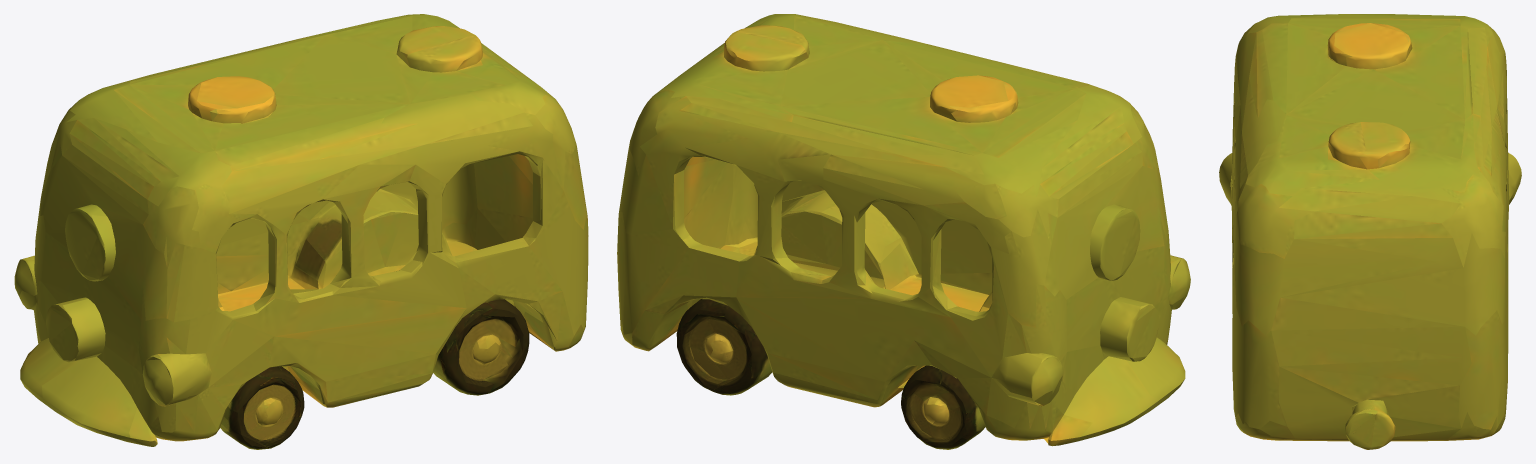
Rendered from gogoCarriage.f4165978.glb.
The picture shows the model from 3 angles, left to right: view 1: azimuth 30°, elevation 25°; view 2: azimuth 150°, elevation 25°; view 3: azimuth 270°, elevation 25°; orthographic projection. The views are drawn at different scales.
Parts seen in each view (by area): view 1: output_unwrapped; view 2: output_unwrapped; view 3: output_unwrapped.
Part boxes in pixels (x1,y1,x2,y2): output_unwrapped: [14, 14, 588, 449]; output_unwrapped: [617, 14, 1190, 449]; output_unwrapped: [1219, 14, 1521, 449].
Size of the model in its own units: 1.9 by 1.05 by 0.9786.
Materials: 1 (1 with a texture image).
